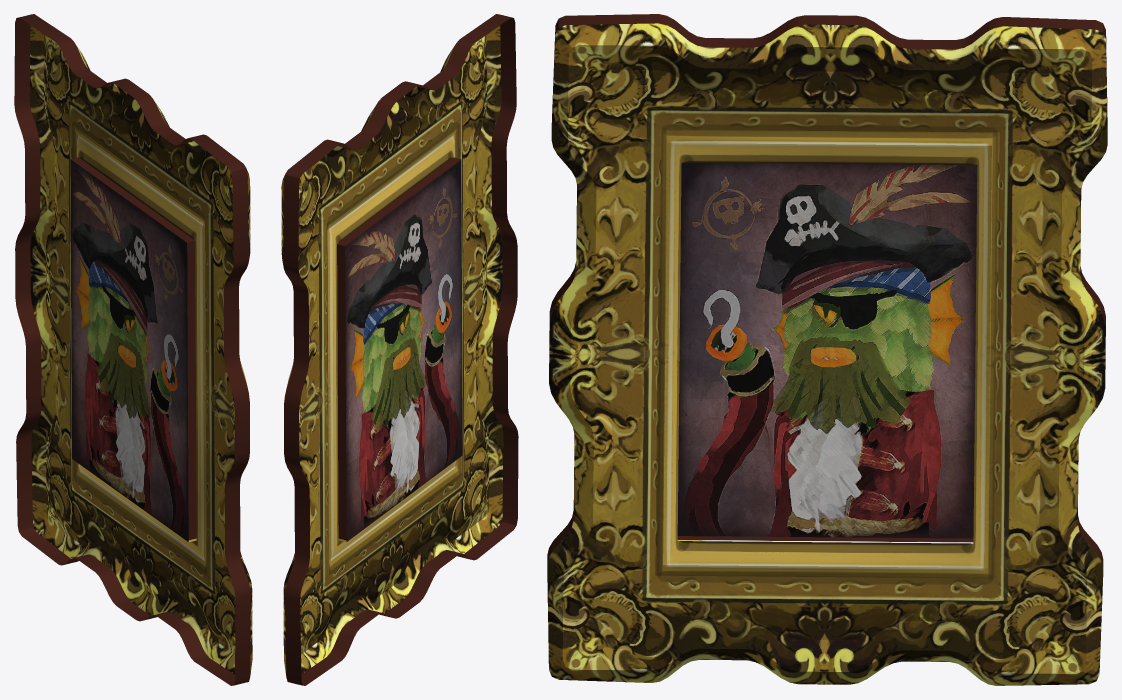
File: painting bog moster.glb
3 views of the same model, side by side, from view 1: azimuth 30°, elevation 25°; view 2: azimuth 150°, elevation 25°; view 3: azimuth 270°, elevation 25° (orthographic). The views are drawn at different scales.
Parts seen in each view (by area): view 1: Ornate_Frame.orig.001; view 2: Ornate_Frame.orig.001; view 3: Ornate_Frame.orig.001.
Boxes of the visible parts, x1,y1,x2,y2 form: Ornate_Frame.orig.001: (14, 14, 252, 685); Ornate_Frame.orig.001: (281, 14, 518, 685); Ornate_Frame.orig.001: (547, 14, 1107, 685).
Size of the model in its own units: 0.3282 by 7.11 by 5.45.
Materials: 1 (1 with a texture image).
